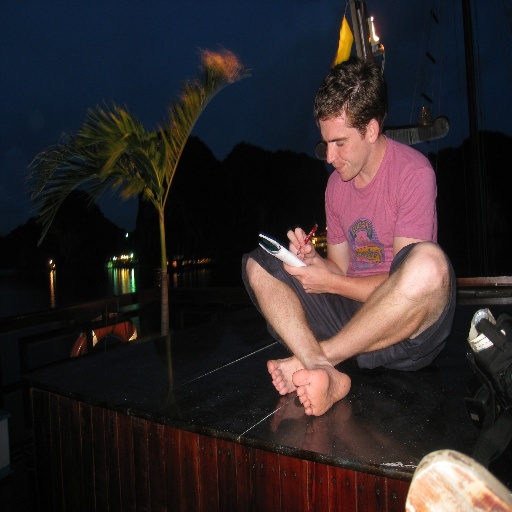hand: (283, 223, 327, 278), (281, 256, 335, 295)
